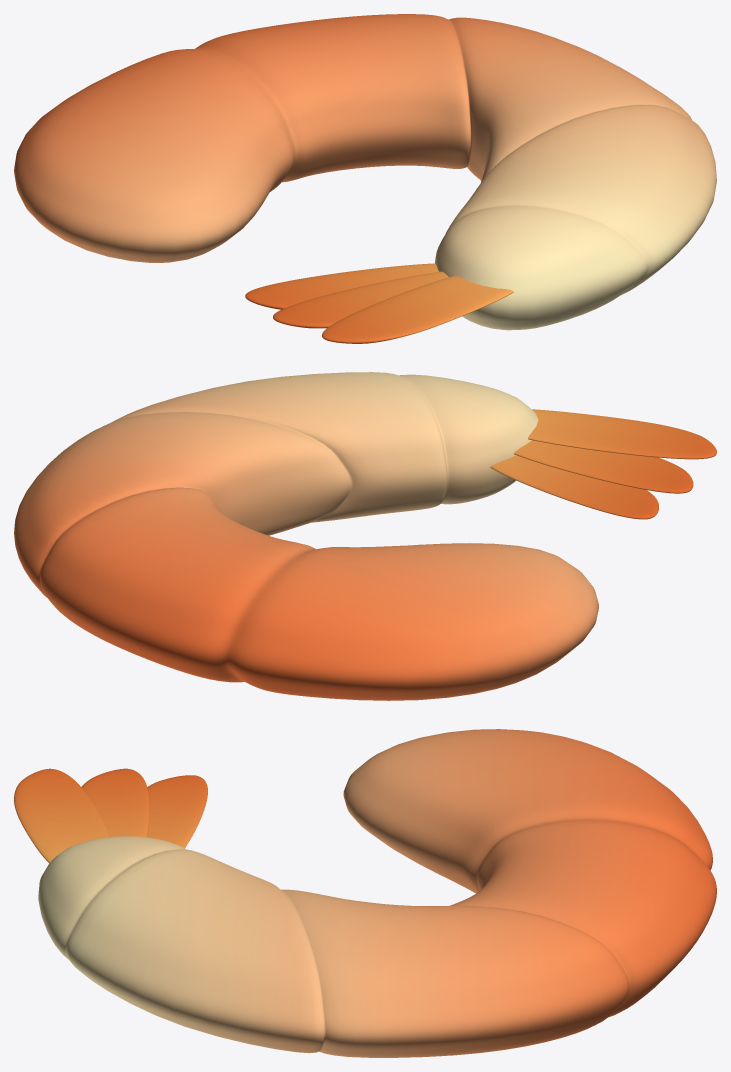
File: Shrimp.fbx
3 renders of one model, top to bottom at view 1: azimuth 30°, elevation 25°; view 2: azimuth 150°, elevation 25°; view 3: azimuth 270°, elevation 25°, orthographic. The views are drawn at different scales.
Visible parts, largest first — view 1: Prawn; view 2: Prawn; view 3: Prawn.
Part boxes in pixels (x1,y1,x2,y2): Prawn: [14, 14, 716, 343]; Prawn: [14, 372, 716, 700]; Prawn: [14, 729, 716, 1057].
Size of the model in its own units: 48.49 by 9.09 by 49.73.
Materials: 1 (1 with a texture image).
